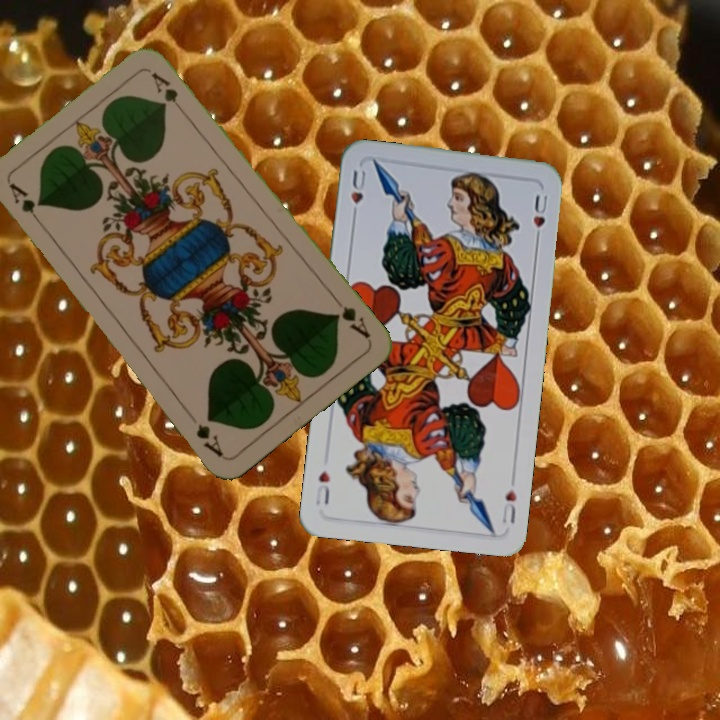GA: (329, 292, 373, 342), (5, 179, 47, 231)
HU: (347, 166, 369, 223), (498, 485, 519, 526)
